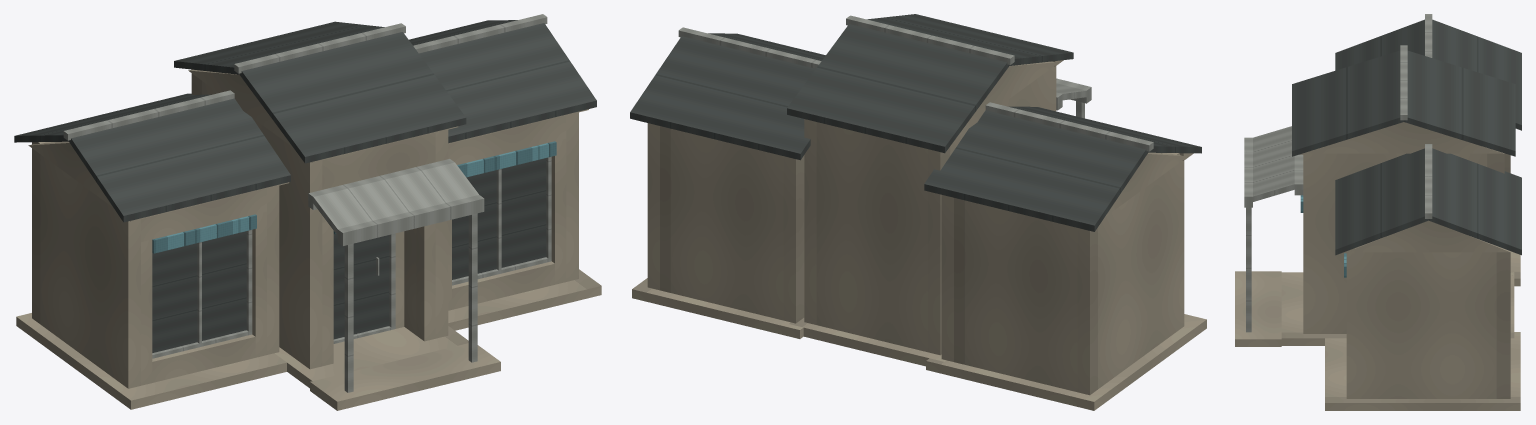
The picture shows the model from 3 angles, left to right: view 1: azimuth 30°, elevation 25°; view 2: azimuth 150°, elevation 25°; view 3: azimuth 270°, elevation 25°; orthographic projection. The views are drawn at different scales.
Parts seen in each view (by area): view 1: guatemala-city; view 2: guatemala-city; view 3: guatemala-city.
Part boxes in pixels (<box>): guatemala-city: <box>14,14,601,410</box>; guatemala-city: <box>630,14,1206,410</box>; guatemala-city: <box>1235,14,1521,410</box>.
Size of the model in its own units: 6.79 by 3.7 by 4.13.
1 material, 1 textured.
